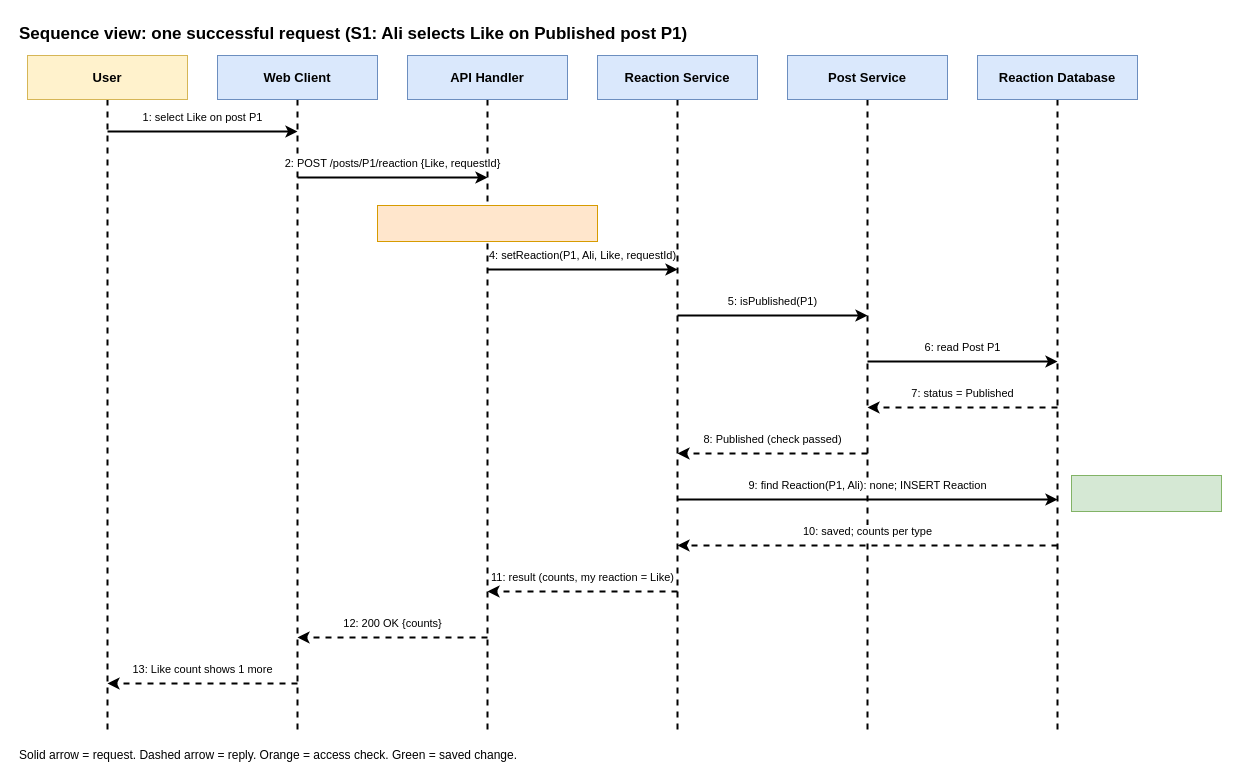
The diagram is 1239 pixels wide and 782 high, and some of its shapes have lost their labels. The shapes that lost their labels are listed below. From the top down, each one's box as (x1, y1, x2, y2) in pixels, then its label:
(376, 204, 598, 242): 3: ACCESS CHECK: caller = Ali (identity from session)
(1070, 474, 1222, 512): SAVED CHANGE (Reaction stored)
